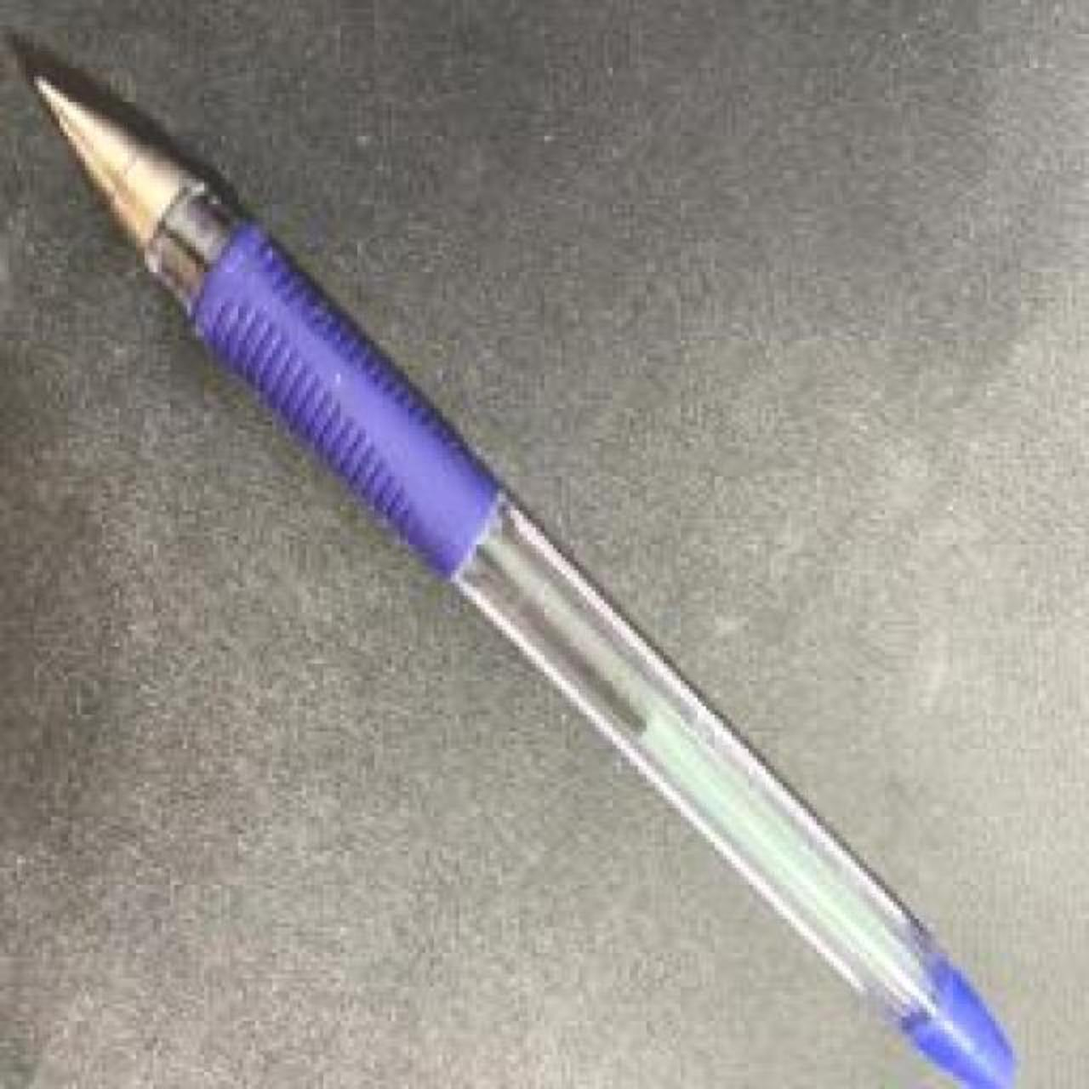pen: (29, 71, 1012, 1089)
